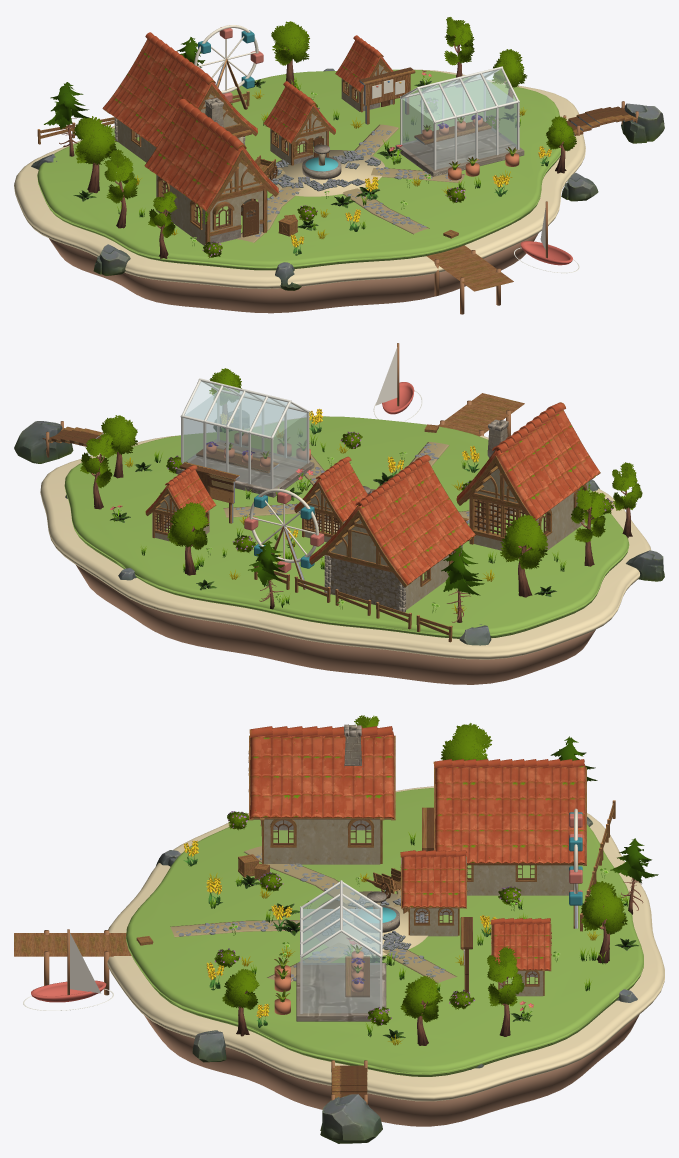
The model's file is island.glb.
3 views of the same model, one above another, from view 1: azimuth 30°, elevation 25°; view 2: azimuth 150°, elevation 25°; view 3: azimuth 270°, elevation 25° (orthographic). The views are drawn at different scales.
Parts seen in each view (by area): view 1: Meadow, Beach, Cliff, Greenhouse glass, Roof_RoundTiles_6x8.002, Roof_RoundTiles_4x6.002, Greenhouse base, Greenhouse roof glass, Roof_RoundTiles_4x4.003, CommonTree_1.005, Plaza, Roof_RoundTiles_4x4.004 (+26 smaller); view 2: Meadow, Beach, Cliff, Roof_RoundTiles_6x8.002, Greenhouse glass, Roof_RoundTiles_4x6.002, Greenhouse roof glass.001, Greenhouse base, CommonTree_1.005, Roof_RoundTiles_4x4.003, CommonTree_1.006, Rock_Medium_2.005 (+26 smaller); view 3: Meadow, Beach, Roof_RoundTiles_6x8.002, Roof_RoundTiles_4x6.002, Cliff, Greenhouse glass, Greenhouse base, Roof_RoundTiles_4x4.003, Roof_RoundTiles_4x4.004, Rock_Medium_2.005, CommonTree_1.006, Plaza (+22 smaller).
Boxes of the visible parts, x1=… form: Meadow: x1=37, y1=69, x2=564, y2=270; Beach: x1=14, y1=69, x2=585, y2=288; Cliff: x1=49, y1=233, x2=538, y2=313; Greenhouse glass: x1=402, y1=79, x2=516, y2=168; Roof_RoundTiles_6x8.002: x1=102, y1=32, x2=257, y2=147; Roof_RoundTiles_4x6.002: x1=144, y1=98, x2=278, y2=213; Greenhouse base: x1=395, y1=127, x2=524, y2=176; Greenhouse roof glass: x1=420, y1=69, x2=516, y2=120; Roof_RoundTiles_4x4.003: x1=263, y1=81, x2=335, y2=144; CommonTree_1.005: x1=73, y1=116, x2=116, y2=193; Plaza: x1=269, y1=150, x2=384, y2=196; Roof_RoundTiles_4x4.004: x1=335, y1=35, x2=393, y2=92; Meadow: x1=64, y1=416, x2=629, y2=638; Beach: x1=40, y1=416, x2=651, y2=659; Cliff: x1=76, y1=565, x2=595, y2=684; Roof_RoundTiles_6x8.002: x1=309, y1=454, x2=475, y2=587; Greenhouse glass: x1=183, y1=391, x2=306, y2=488; Roof_RoundTiles_4x6.002: x1=456, y1=402, x2=600, y2=520; Greenhouse roof glass.001: x1=185, y1=381, x2=287, y2=436; Greenhouse base: x1=176, y1=439, x2=314, y2=497; CommonTree_1.005: x1=500, y1=515, x2=547, y2=597; Roof_RoundTiles_4x4.003: x1=294, y1=456, x2=367, y2=523; CommonTree_1.006: x1=167, y1=502, x2=209, y2=575; Rock_Medium_2.005: x1=14, y1=421, x2=73, y2=463; Meadow: x1=126, y1=788, x2=643, y2=1076; Beach: x1=107, y1=786, x2=664, y2=1101; Roof_RoundTiles_6x8.002: x1=433, y1=759, x2=586, y2=865; Roof_RoundTiles_4x6.002: x1=249, y1=726, x2=395, y2=820; Cliff: x1=144, y1=1015, x2=639, y2=1126; Greenhouse glass: x1=302, y1=909, x2=379, y2=1012; Greenhouse base: x1=296, y1=963, x2=386, y2=1021; Roof_RoundTiles_4x4.003: x1=400, y1=850, x2=466, y2=908; Roof_RoundTiles_4x4.004: x1=490, y1=918, x2=551, y2=971; Rock_Medium_2.005: x1=320, y1=1094, x2=382, y2=1143; CommonTree_1.006: x1=581, y1=881, x2=627, y2=963; Plaza: x1=311, y1=891, x2=428, y2=955.
Size of the model in its own units: 29.54 by 7.77 by 23.86.
Materials: 89 (67 with a texture image).
